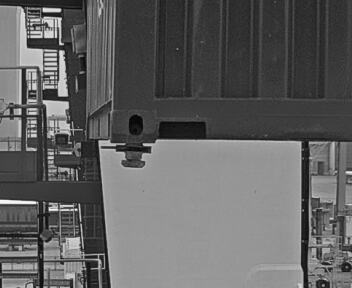twist_lock_1: (107, 136, 157, 176)
